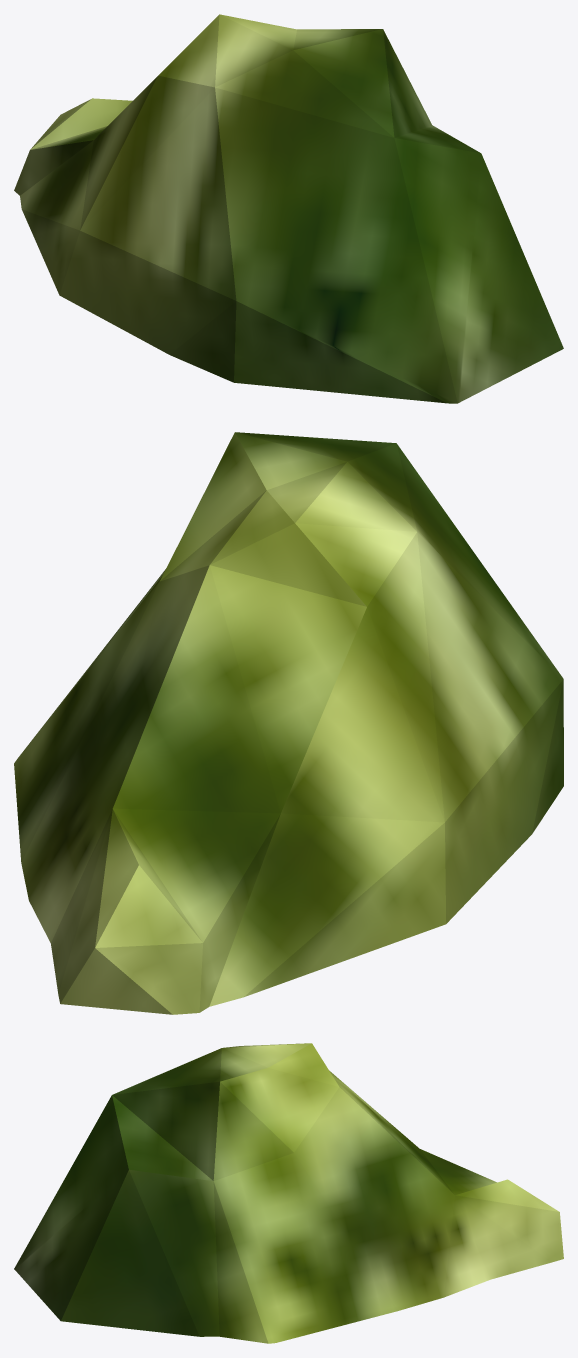
3 renders of one model, top to bottom at view 1: azimuth 30°, elevation 25°; view 2: azimuth 150°, elevation 25°; view 3: azimuth 270°, elevation 25°, orthographic. The views are drawn at different scales.
Size of the model in its own units: 0.1563 by 0.1036 by 0.2472.
1 material, 1 textured.
